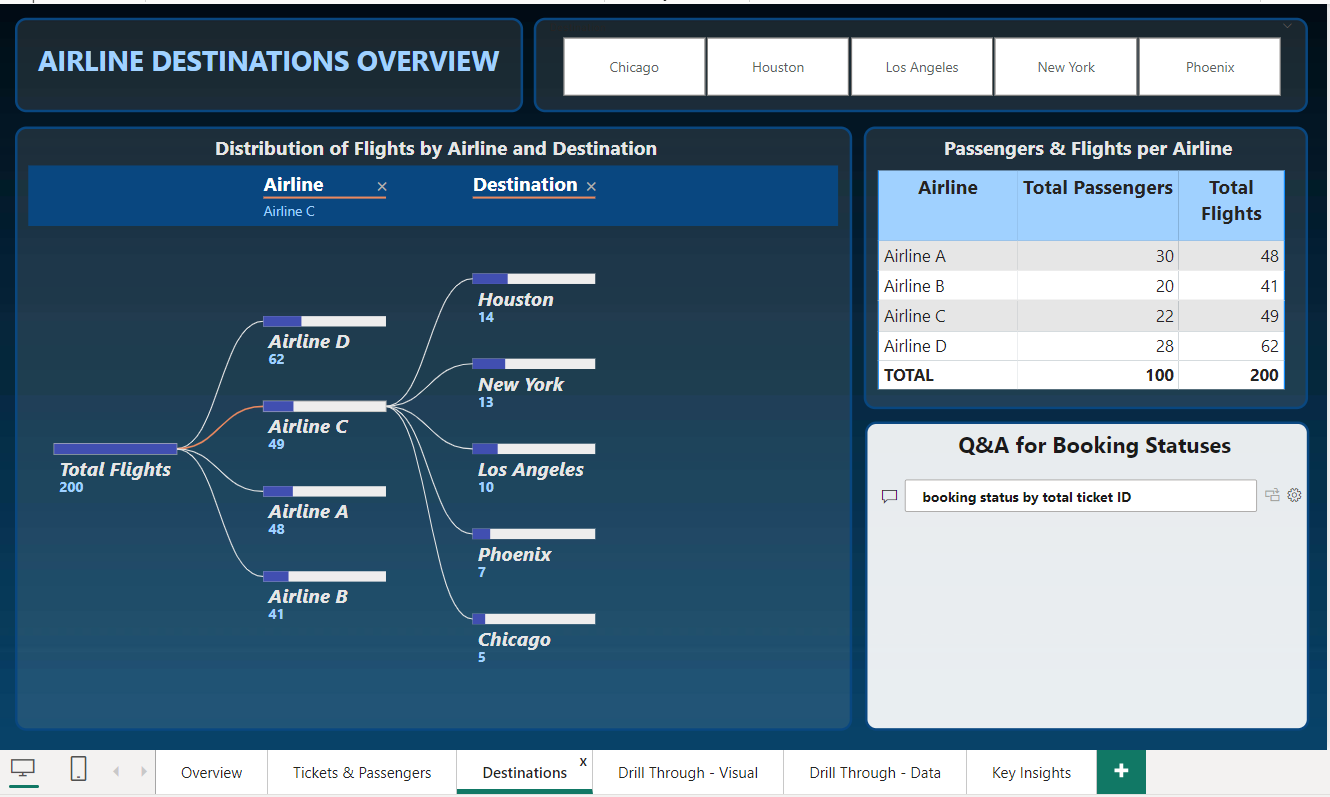

Layout of this report page (visuals, bound fields, positions):
{"tool":"powerbi","page":{"name":"Destinations","canvas":[1280,720],"ordinal":2},"visuals":[{"type":"decompositionTreeVisual","title":"Distribution of Flights by Airline and Destination","fields":{"ExplainBy":["flight_information.Airline","flight_information.Destination"],"Analyze":["CountNonNull(flight_information.FlightID)"]},"box":[14.4,118.3,807.9,582.9],"z":0},{"type":"qnaVisual","title":"Q&A for Booking Statuses","box":[834.3,402.9,428.6,298.6],"z":1000},{"type":"tableEx","title":"Passengers & Flights per Airline","fields":{"Values":["flight_information.Airline","CountNonNull(passenger_information.PassengerID)","flight_information.FlightID"]},"box":[833.9,118.3,428.5,272.7],"z":2000},{"type":"slicer","title":"Destination","fields":{"Values":["flight_information.Destination"]},"box":[515.1,13,747.4,90.9],"z":3000},{"type":"textbox","box":[14.4,13,490.5,90.9],"z":4000}]}

Visuals, with their boxes on the page's 1280x720 design canvas (x1, y1, x2, y2). These are canvas units, not pixel positions in the 1330x797 screenshot, which may show the page scaled, cropped or inside an application window:
"Distribution of Flights by Airline and Destination" decompositionTreeVisual: BBox(14, 118, 822, 701)
"Q&A for Booking Statuses" qnaVisual: BBox(834, 403, 1263, 702)
"Passengers & Flights per Airline" tableEx: BBox(834, 118, 1262, 391)
"Destination" slicer: BBox(515, 13, 1262, 104)
textbox: BBox(14, 13, 505, 104)
